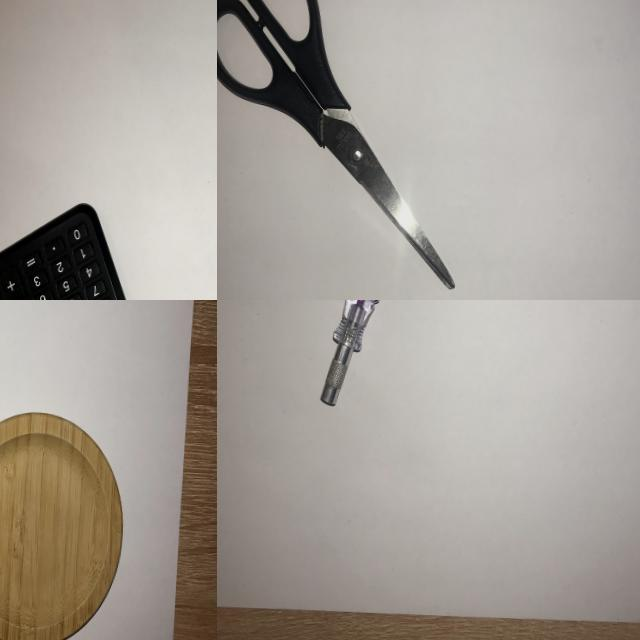calculator: (0, 193, 171, 300)
cup_holder: (0, 398, 134, 640)
scissors: (217, 0, 480, 296)
screwdriver: (311, 300, 413, 420)
